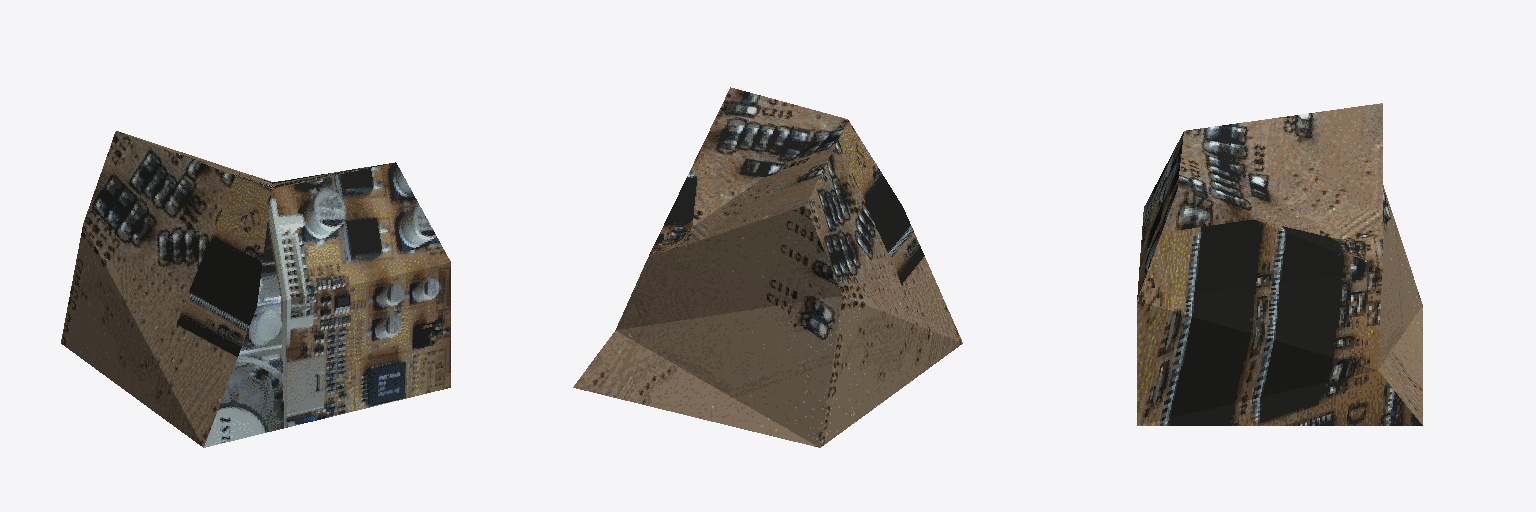
3 views of the same model, side by side, from view 1: azimuth 30°, elevation 25°; view 2: azimuth 150°, elevation 25°; view 3: azimuth 270°, elevation 25° (orthographic).
Parts seen in each view (by area): view 1: M_Hardware; view 2: M_Hardware; view 3: M_Hardware.
Boxes of the visible parts, <box> form: M_Hardware: <box>61,131,450,447</box>; M_Hardware: <box>573,87,962,447</box>; M_Hardware: <box>1137,103,1422,425</box>.
Bounding box in the file's own units: 0.76 × 0.6426 × 0.76.
Materials: 1 (1 with a texture image).